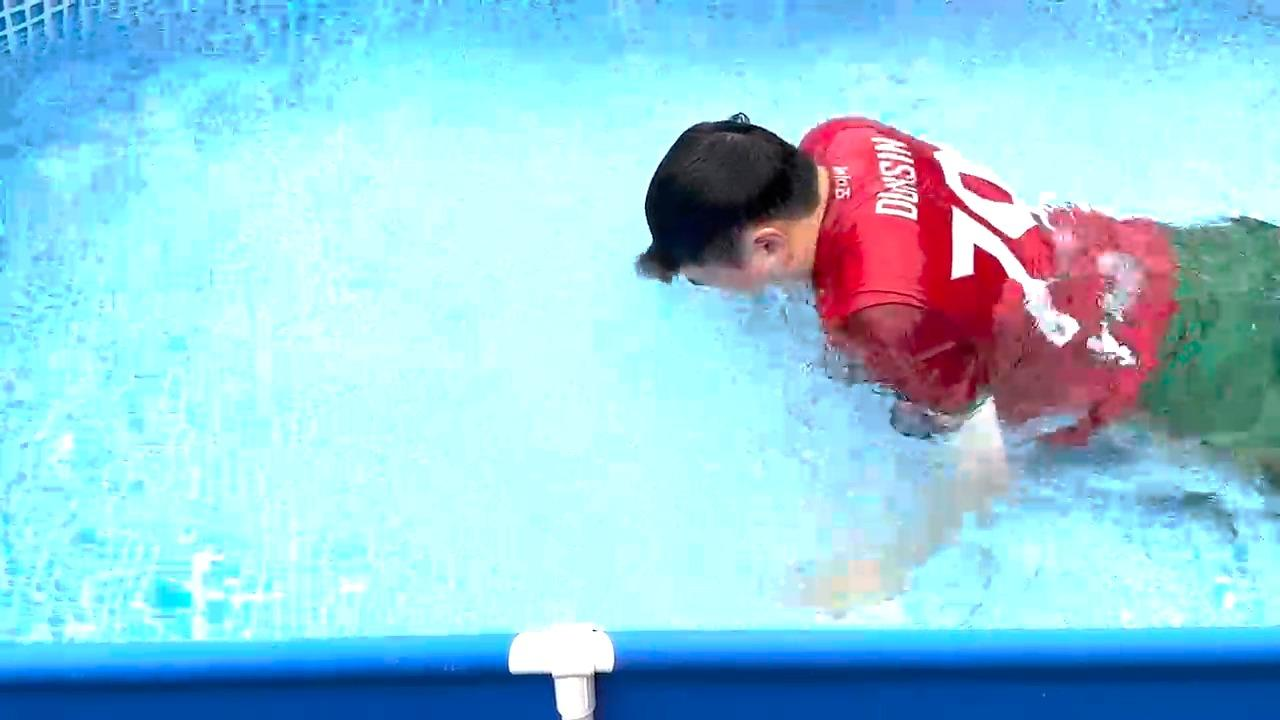Drowning: (533, 60, 1280, 636)
